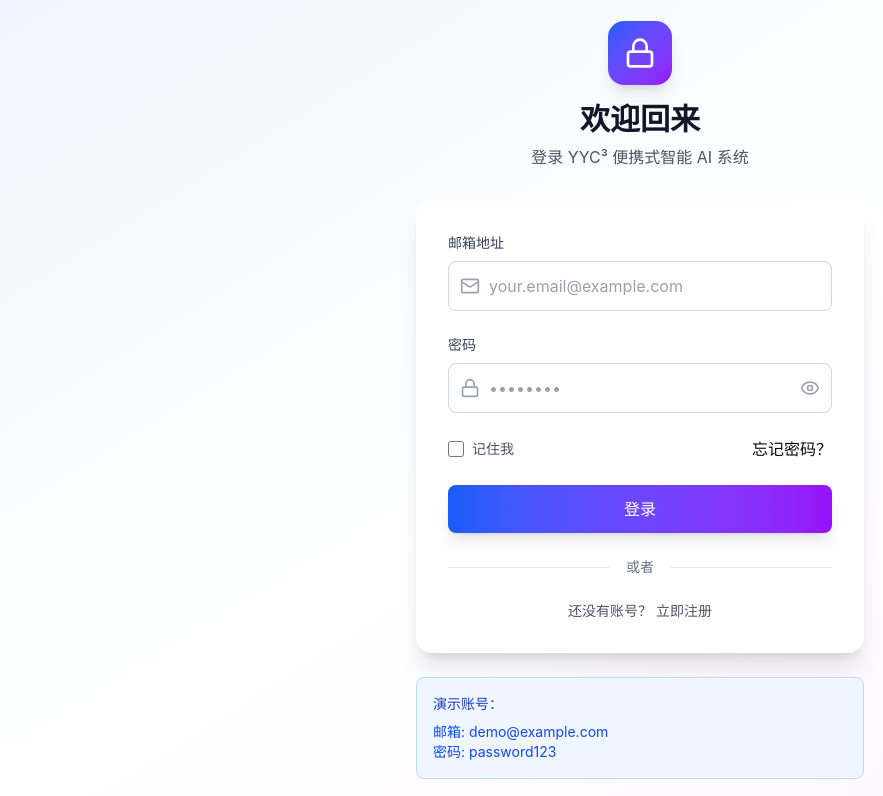
Test: LoginPage › 应该显示加载状态
The image size is (883, 796).
In the field with placeholder "your.email@example.com": (640, 286) x1=448 y1=261 x2=832 y2=311, type "demo@example.com"
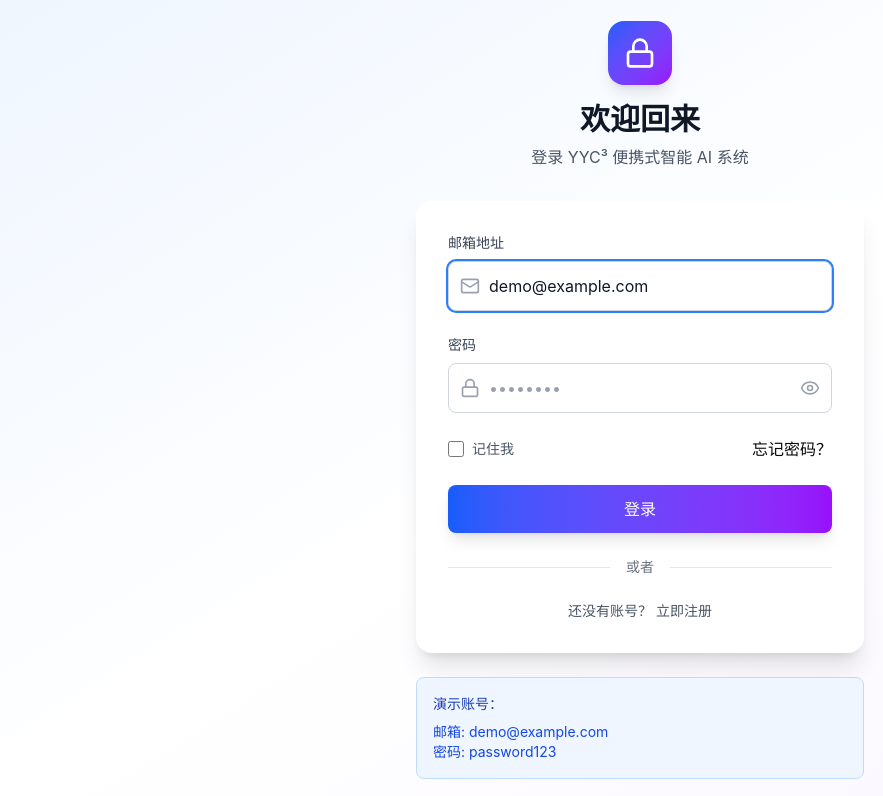
In the password field with placeholder "••••••••": (640, 388) x1=448 y1=363 x2=832 y2=413, type "password123"
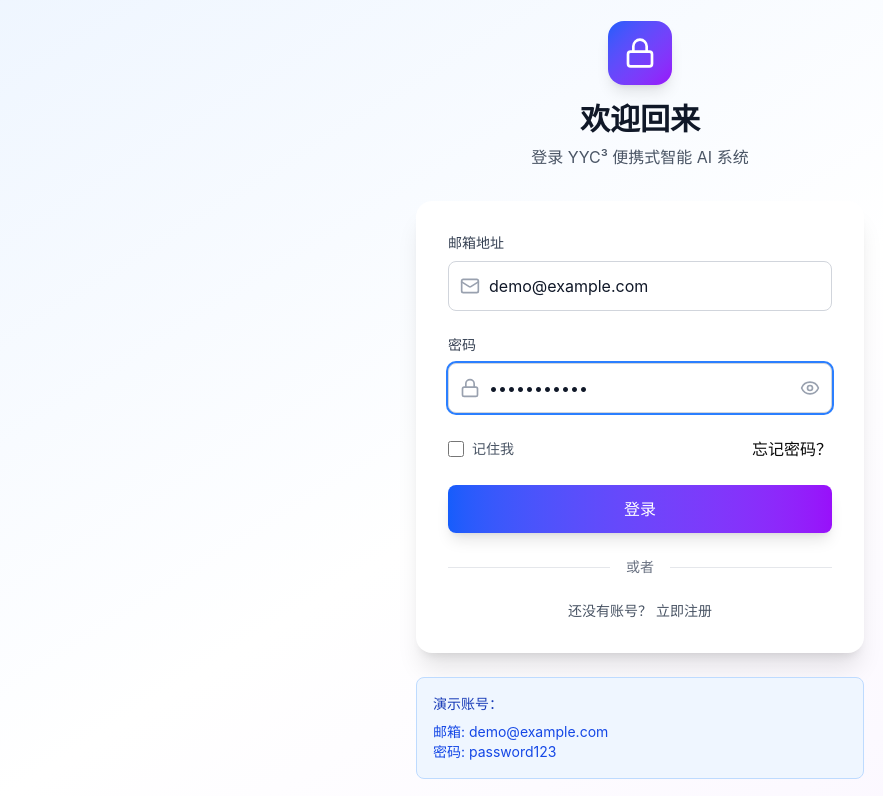
Click the button "登录": (640, 509) x1=448 y1=485 x2=832 y2=533
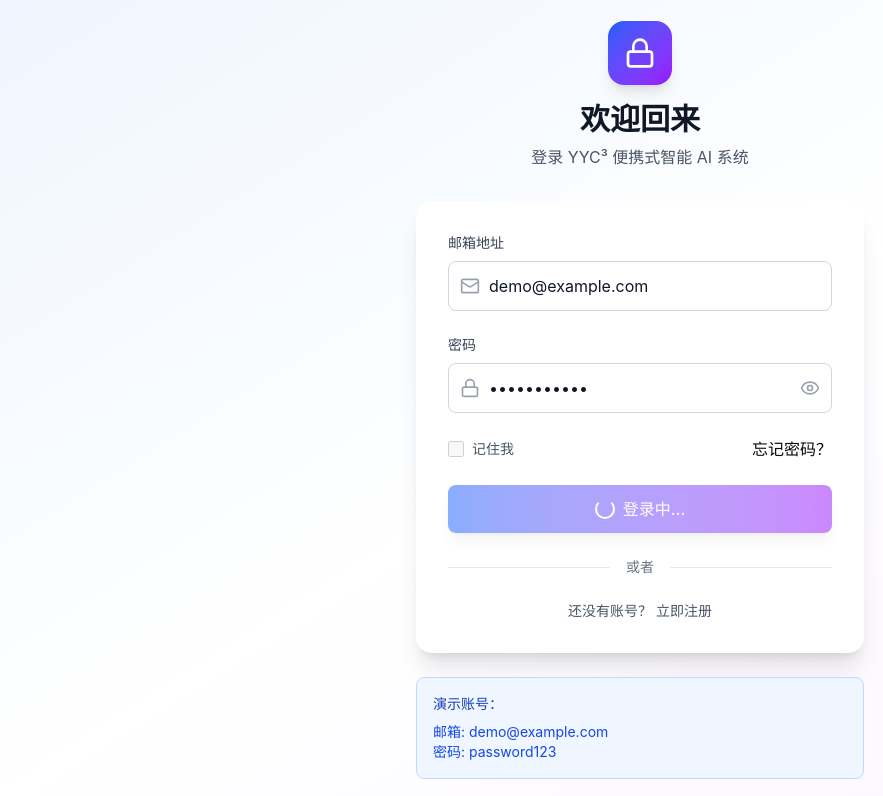
Now the button "登录中..." is disabled, box x1=448 y1=485 x2=832 y2=533
